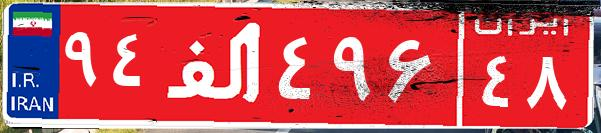4: (273, 28, 330, 110), (475, 38, 525, 113), (110, 28, 158, 105)
6: (385, 28, 445, 110)
8: (525, 38, 570, 115)
9: (330, 28, 385, 110), (57, 26, 110, 107)
الف: (158, 15, 273, 115)
